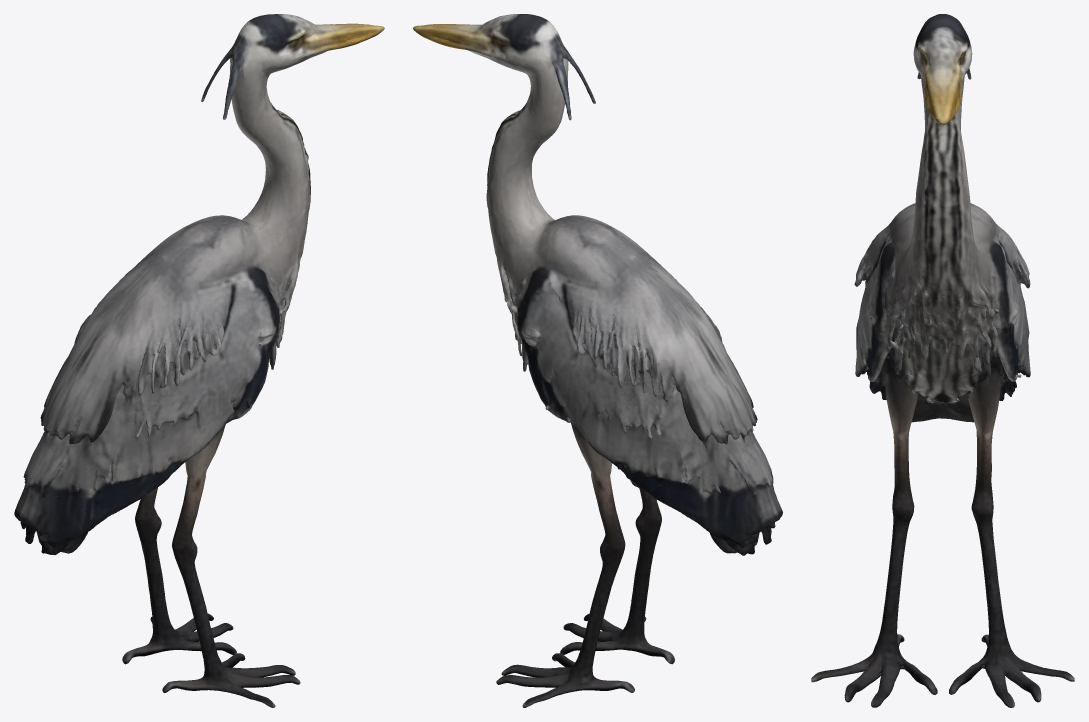
Rendered from grey-heron-v21.glb.
The picture shows the model from 3 angles, left to right: view 1: azimuth 30°, elevation 25°; view 2: azimuth 150°, elevation 25°; view 3: azimuth 270°, elevation 25°; orthographic projection. The views are drawn at different scales.
Parts seen in each view (by area): view 1: world; view 2: world; view 3: world.
Part boxes in pixels (x1=…): world: x1=14, y1=14, x2=384, y2=707; world: x1=413, y1=14, x2=782, y2=707; world: x1=811, y1=14, x2=1074, y2=707.
Bounding box in the file's own units: 0.6032 × 1 × 0.3453.
1 material, 1 textured.
